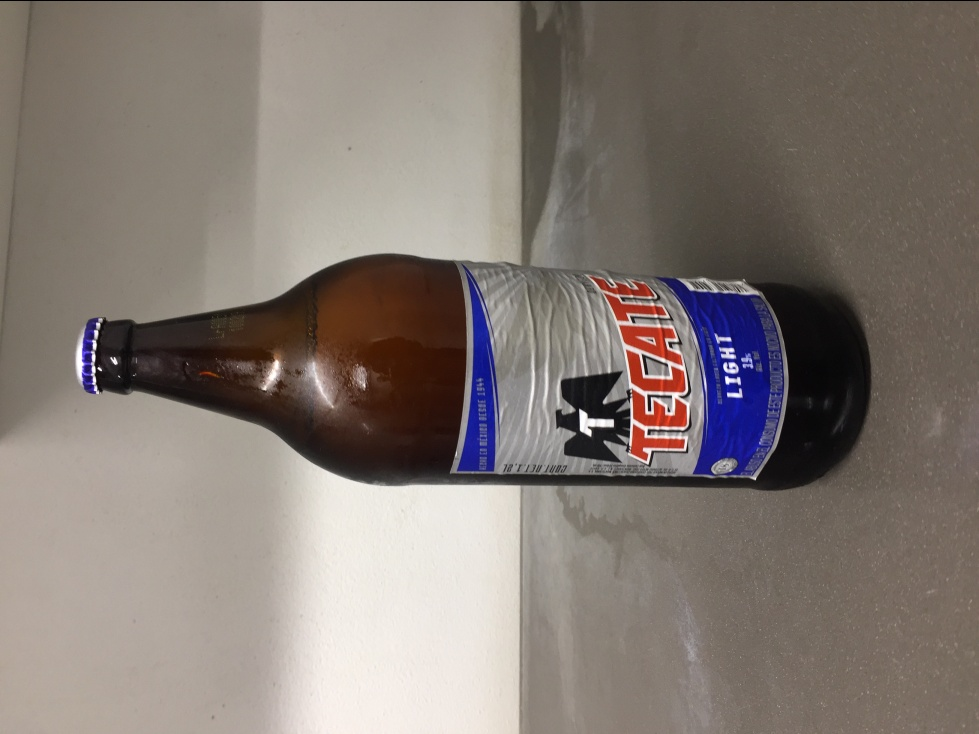tecateC: (75, 253, 869, 486)
